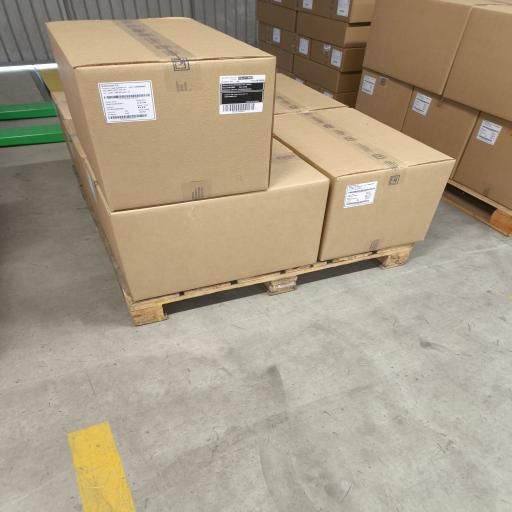pallet: (74, 166, 413, 325), (442, 180, 511, 236), (0, 124, 64, 146)
